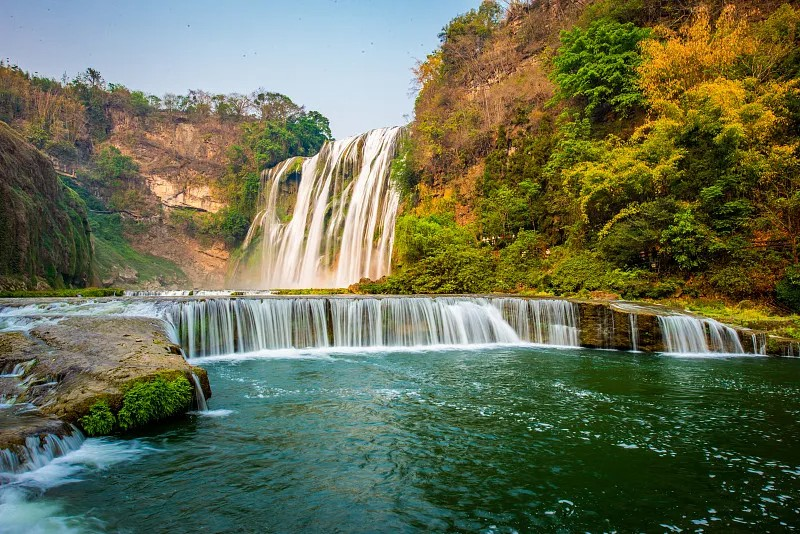Huangguoshu: (234, 127, 406, 290)
